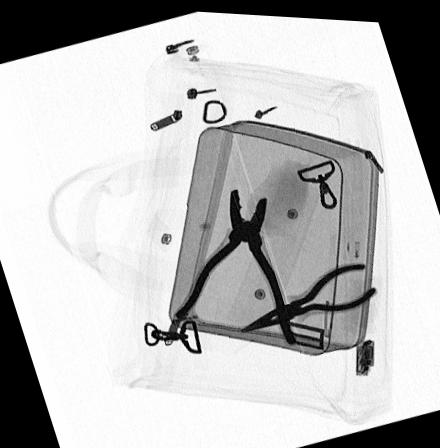Pliers: (171, 184, 297, 345), (236, 258, 379, 333)
